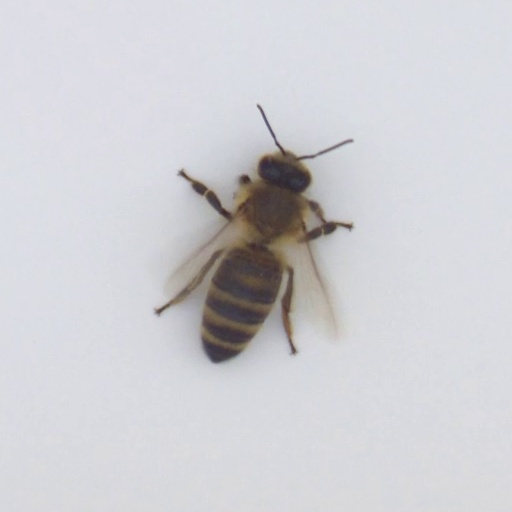Bee: (181, 138, 326, 388)
Thorax: (237, 181, 304, 242)
